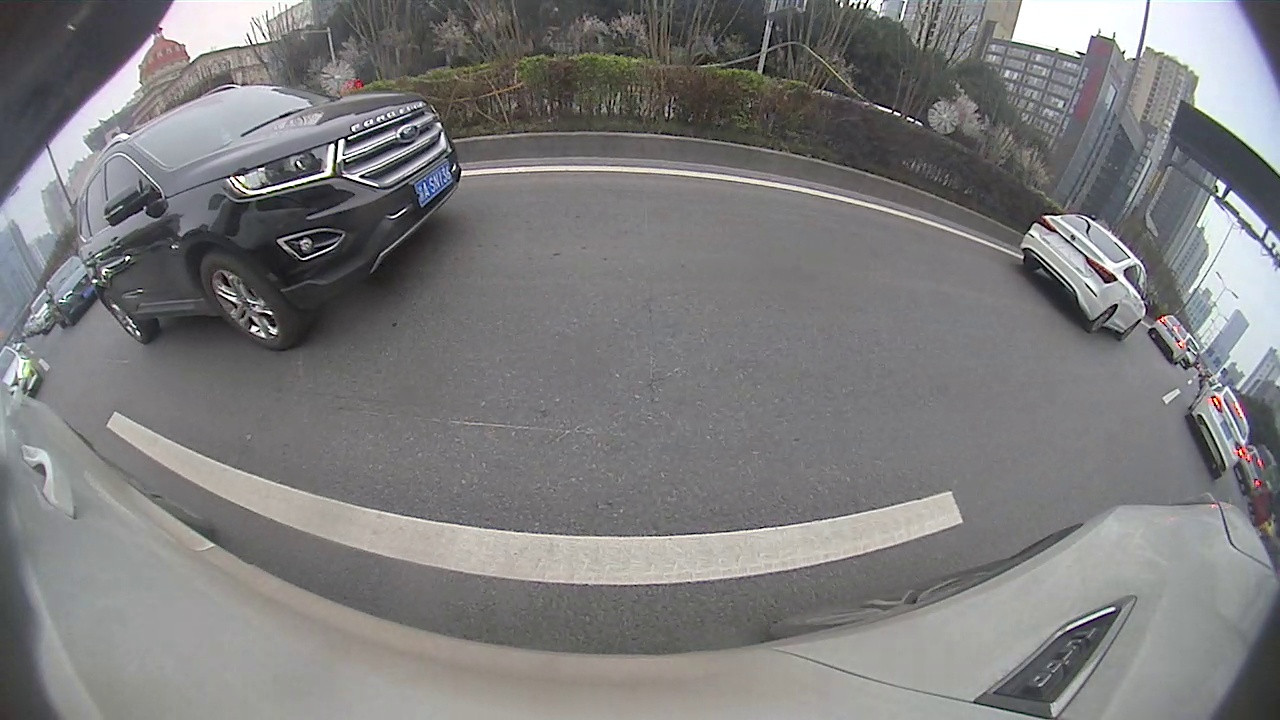car: (73, 83, 463, 353), (1018, 212, 1154, 341), (1184, 380, 1250, 480), (42, 256, 98, 331), (1147, 316, 1192, 367)
front: (199, 252, 291, 349)
rear: (106, 294, 146, 343), (1089, 306, 1116, 334)
